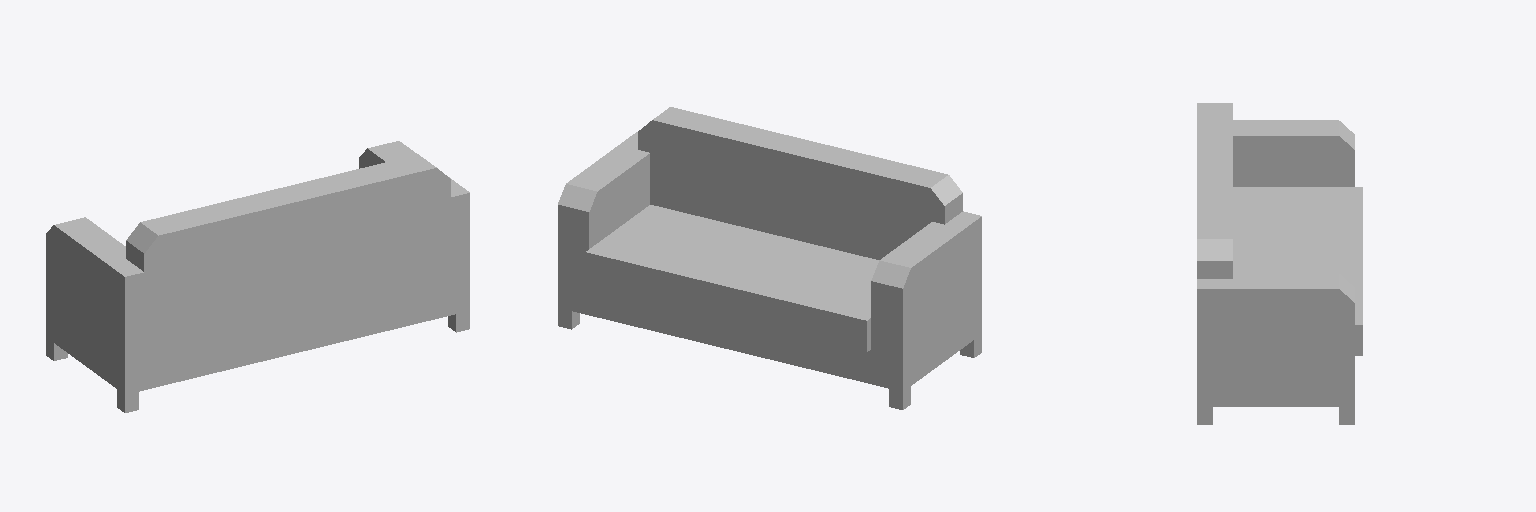
File: couch set 1.obj
3 views of the same model, side by side, from view 1: azimuth 30°, elevation 25°; view 2: azimuth 150°, elevation 25°; view 3: azimuth 270°, elevation 25° (orthographic).
Visible parts, largest first — view 1: loungeSofa; view 2: loungeSofa; view 3: loungeSofa.
Part boxes in pixels (x1,y1,x2,y2): loungeSofa: (46, 141, 469, 412); loungeSofa: (558, 107, 981, 409); loungeSofa: (1197, 103, 1362, 424).
Bounding box in the file's own units: 0.98 × 0.46 × 0.41.